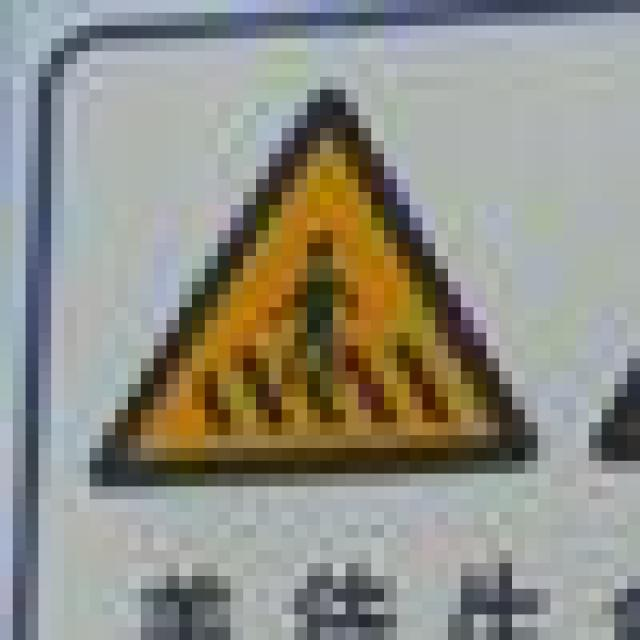PEDESTRIAN_CROSSING: (64, 64, 538, 474)
